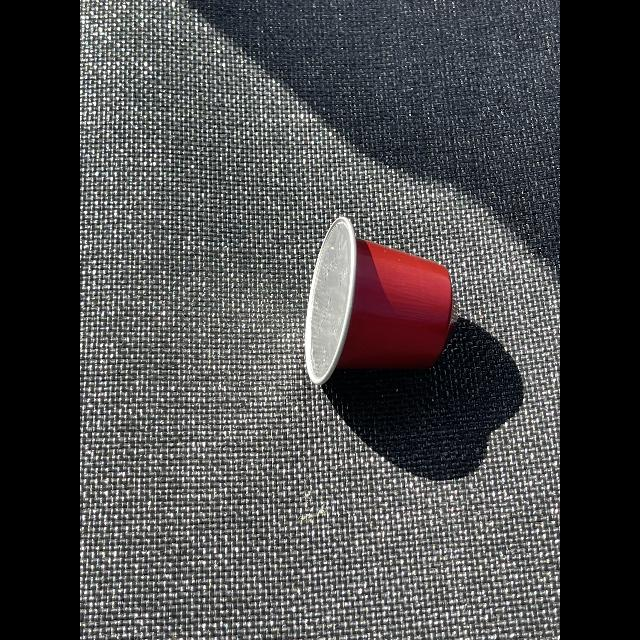intact_capsule: (296, 208, 477, 410)
